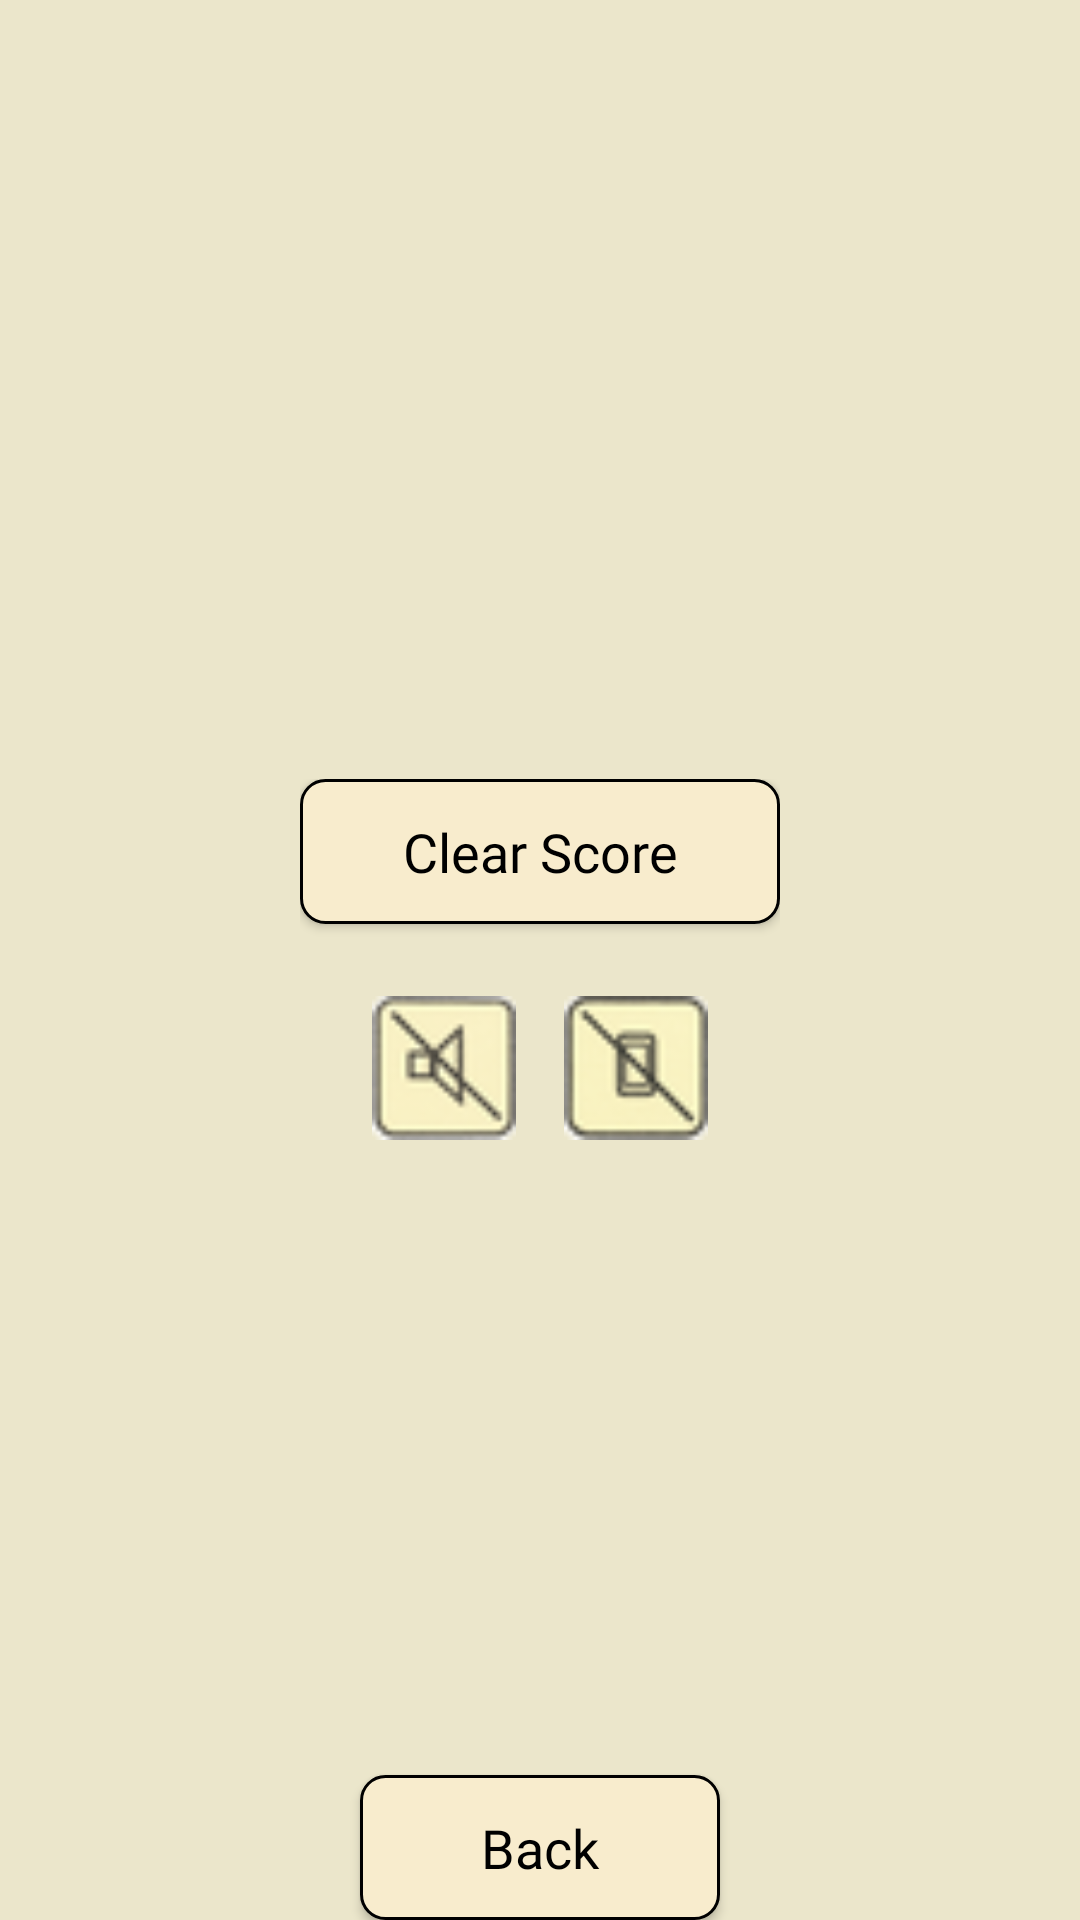

Named icons in this screenshot (1080px×1920px) and their bounding boxes, {"x1": x1, "y1": y1, "x2": x2, "y2": y2}:
Sound: {"x1": 372, "y1": 996, "x2": 516, "y2": 1140}
Vibration: {"x1": 564, "y1": 996, "x2": 708, "y2": 1140}
